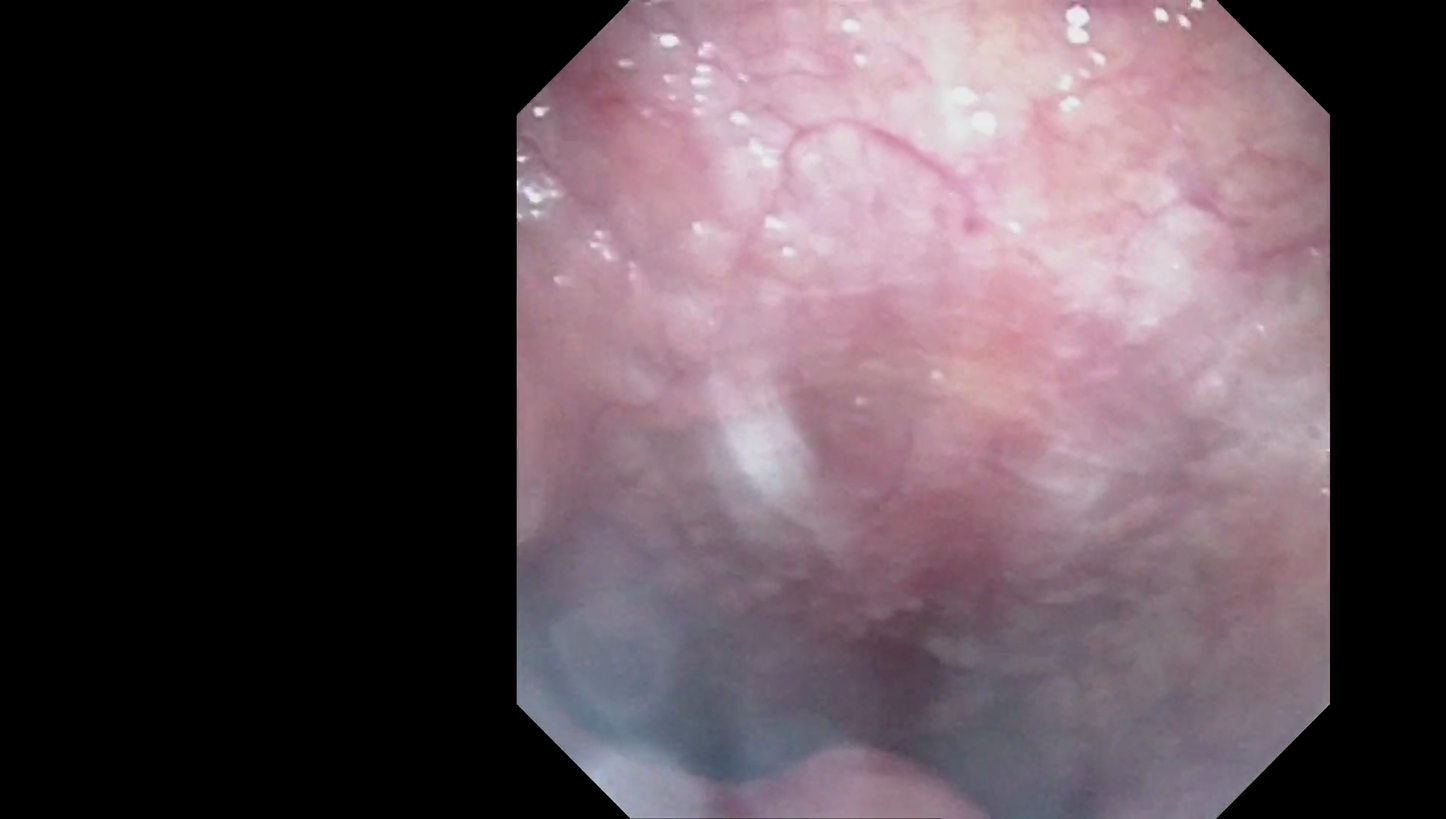next: (559, 642, 886, 817), (788, 660, 1142, 819)
